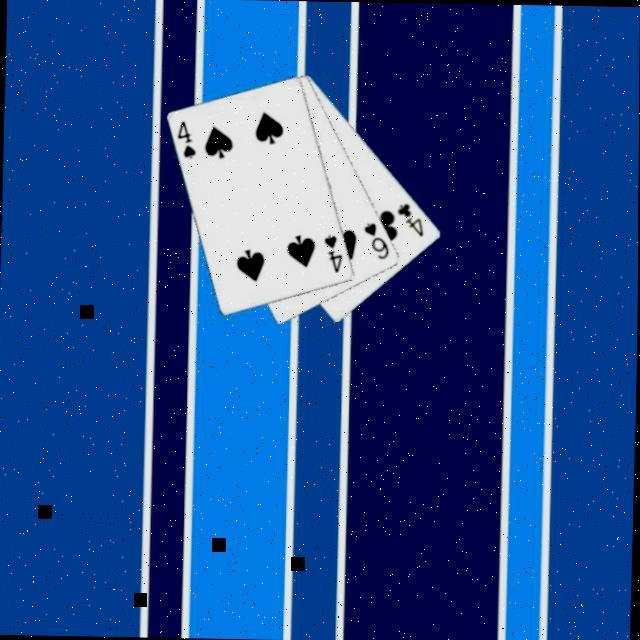4C: (394, 200, 428, 240)
4S: (321, 232, 347, 277), (174, 118, 200, 162)
6S: (361, 220, 394, 262)
